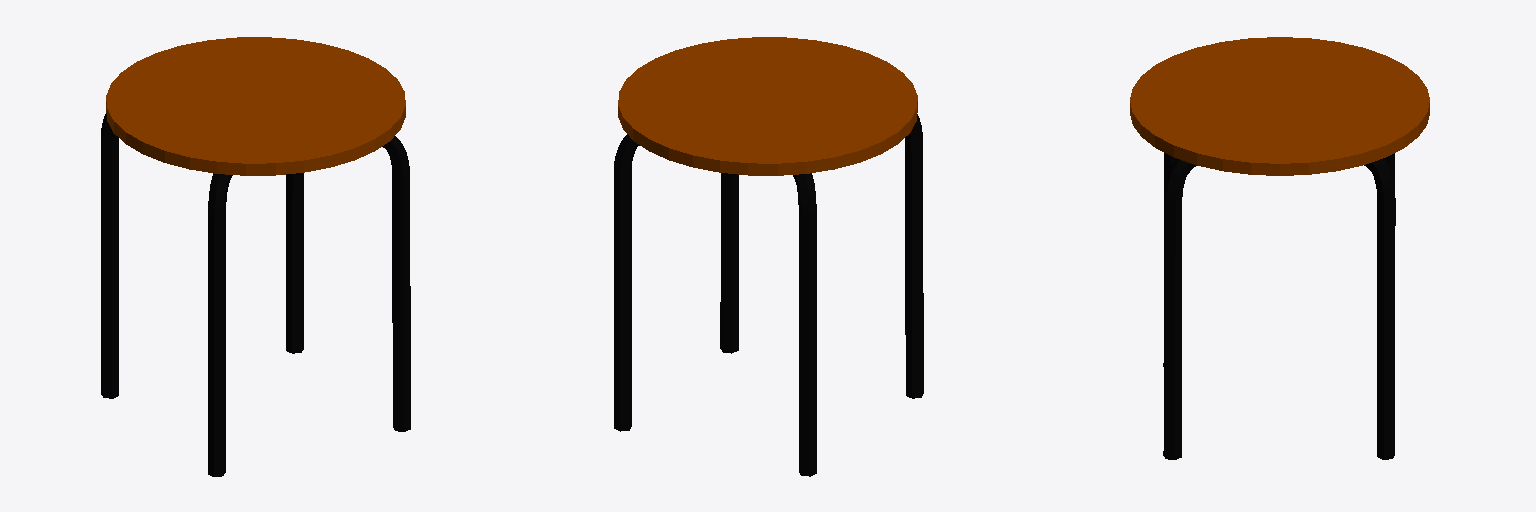
The model's file is stool.obj.
3 views of the same model, side by side, from view 1: azimuth 30°, elevation 25°; view 2: azimuth 150°, elevation 25°; view 3: azimuth 270°, elevation 25° (orthographic).
Parts seen in each view (by area): view 1: Assise_1, Tube_1_3, Tube_2; view 2: Assise_1, Tube_2, Tube_1_3; view 3: Assise_1, Tube_2, Tube_1_3.
Part boxes in pixels (left/top/right/bottom): Assise_1: left=106, top=37, right=405, bottom=175; Tube_1_3: left=101, top=113, right=410, bottom=431; Tube_2: left=208, top=173, right=303, bottom=476; Assise_1: left=618, top=37, right=917, bottom=175; Tube_2: left=614, top=114, right=923, bottom=431; Tube_1_3: left=720, top=173, right=816, bottom=476; Assise_1: left=1130, top=37, right=1429, bottom=175; Tube_2: left=1163, top=153, right=1395, bottom=459; Tube_1_3: left=1163, top=153, right=1394, bottom=459.
Size of the model in its own units: 40.01 by 45.72 by 40.01.